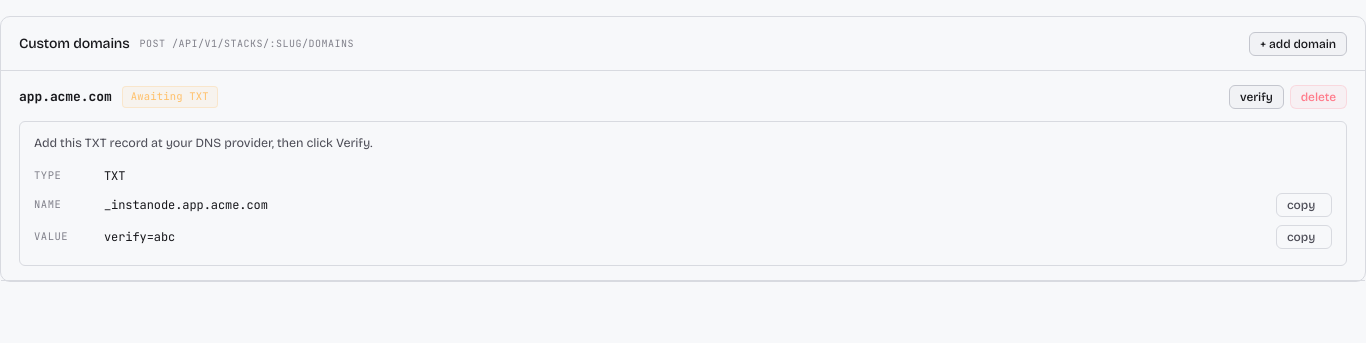
CustomDomainPanel — verify / delete › records a last_check_err on a failed verify
Expected: the text "app.acme.com" is shown, 19,87 -> 112,107
Step 1. Click the button "verify" → (1256, 97), box 1229,85 -> 1284,109
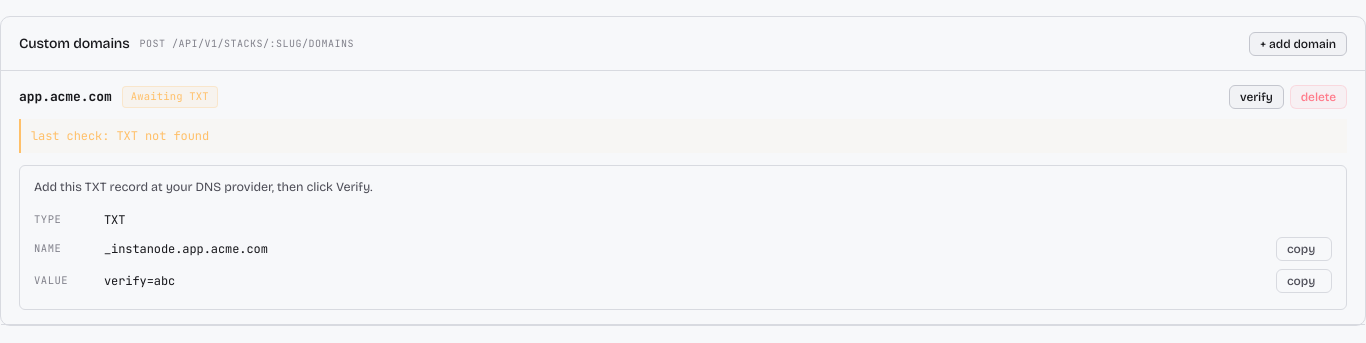
Expected: the text "last check: TXT not found" is shown, 19,119 -> 1347,153
